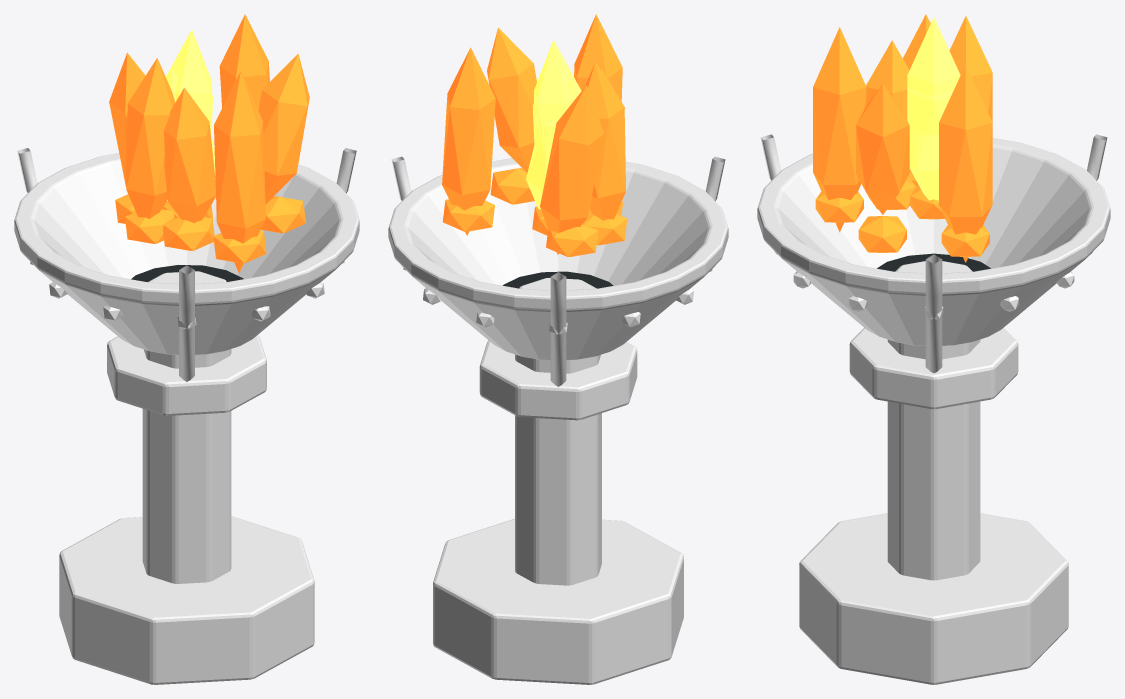
File: AS_15_Brazier_Tall.glb
3 views of the same model, side by side, from view 1: azimuth 30°, elevation 25°; view 2: azimuth 150°, elevation 25°; view 3: azimuth 270°, elevation 25° (orthographic). The views are drawn at different scales.
Parts seen in each view (by area): view 1: AS_15_Brazier_Tall__hollow fire bowl, AS_15_Brazier_Tall__base, AS_15_Brazier_Tall__stem, AS_15_Brazier_Tall__collar, AS_15_Brazier_Tall__flame.003, AS_15_Brazier_Tall__flame.005, AS_15_Brazier_Tall__flame.008, AS_15_Brazier_Tall__flame.006, AS_15_Brazier_Tall__flame, AS_15_Brazier_Tall__flame.004, AS_15_Brazier_Tall__flame.002, AS_15_Brazier_Tall__claw support (+7 smaller); view 2: AS_15_Brazier_Tall__hollow fire bowl, AS_15_Brazier_Tall__base, AS_15_Brazier_Tall__stem, AS_15_Brazier_Tall__collar, AS_15_Brazier_Tall__flame, AS_15_Brazier_Tall__flame.002, AS_15_Brazier_Tall__flame.006, AS_15_Brazier_Tall__flame.005, AS_15_Brazier_Tall__flame.004, AS_15_Brazier_Tall__flame.003, AS_15_Brazier_Tall__claw support.002, AS_15_Brazier_Tall__flame.007 (+7 smaller); view 3: AS_15_Brazier_Tall__hollow fire bowl, AS_15_Brazier_Tall__base, AS_15_Brazier_Tall__stem, AS_15_Brazier_Tall__collar, AS_15_Brazier_Tall__flame, AS_15_Brazier_Tall__flame.003, AS_15_Brazier_Tall__flame.006, AS_15_Brazier_Tall__flame.004, AS_15_Brazier_Tall__claw support.001, AS_15_Brazier_Tall__flame.002, AS_15_Brazier_Tall__flame.007, AS_15_Brazier_Tall__flame.008 (+9 smaller).
Boxes of the visible parts, x1,y1,x2,y2 form: AS_15_Brazier_Tall__hollow fire bowl: (14,148,359,354); AS_15_Brazier_Tall__base: (59,516,314,684); AS_15_Brazier_Tall__stem: (142,271,231,583); AS_15_Brazier_Tall__collar: (107,334,266,415); AS_15_Brazier_Tall__flame.003: (214,71,265,272); AS_15_Brazier_Tall__flame.005: (126,58,175,218); AS_15_Brazier_Tall__flame.008: (164,87,215,223); AS_15_Brazier_Tall__flame.006: (258,53,309,204); AS_15_Brazier_Tall__flame: (219,14,269,110); AS_15_Brazier_Tall__flame.004: (166,29,211,137); AS_15_Brazier_Tall__flame.002: (109,52,145,186); AS_15_Brazier_Tall__claw support: (179,265,194,381); AS_15_Brazier_Tall__hollow fire bowl: (388,158,728,360); AS_15_Brazier_Tall__base: (433,518,683,684); AS_15_Brazier_Tall__stem: (515,277,601,585); AS_15_Brazier_Tall__collar: (479,340,637,420); AS_15_Brazier_Tall__flame: (442,47,495,235); AS_15_Brazier_Tall__flame.002: (540,85,604,254); AS_15_Brazier_Tall__flame.006: (487,27,536,172); AS_15_Brazier_Tall__flame.005: (584,62,625,220); AS_15_Brazier_Tall__flame.004: (534,40,581,166); AS_15_Brazier_Tall__flame.003: (574,14,622,101); AS_15_Brazier_Tall__claw support.002: (550,272,566,386); AS_15_Brazier_Tall__flame.007: (526,79,579,209); AS_15_Brazier_Tall__hollow fire bowl: (757,138,1110,345); AS_15_Brazier_Tall__base: (799,513,1068,684); AS_15_Brazier_Tall__stem: (887,261,980,580); AS_15_Brazier_Tall__collar: (849,327,1018,409); AS_15_Brazier_Tall__flame: (939,64,992,262); AS_15_Brazier_Tall__flame.003: (813,27,866,232); AS_15_Brazier_Tall__flame.006: (856,84,909,214); AS_15_Brazier_Tall__flame.004: (907,17,960,134); AS_15_Brazier_Tall__claw support.001: (925,254,942,373); AS_15_Brazier_Tall__flame.002: (949,16,992,121); AS_15_Brazier_Tall__flame.007: (909,126,938,200); AS_15_Brazier_Tall__flame.008: (866,40,909,120).
Bounding box in the file's own units: 1.2 × 2.15 × 1.12.
